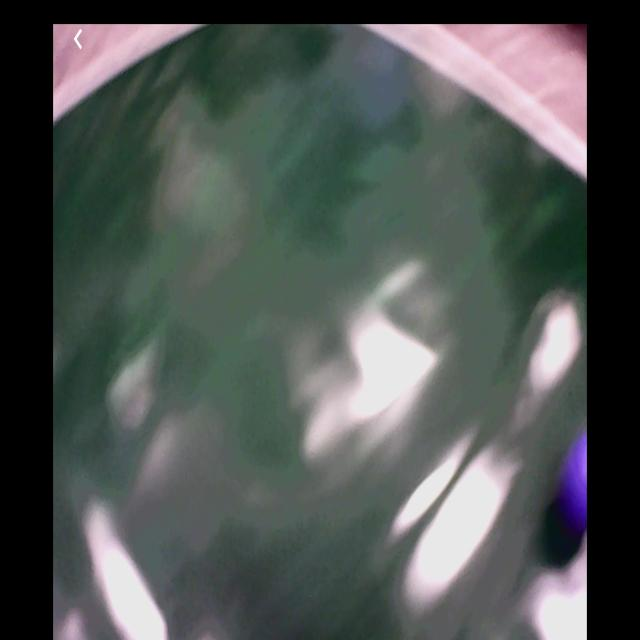ball: (557, 425, 589, 534)
